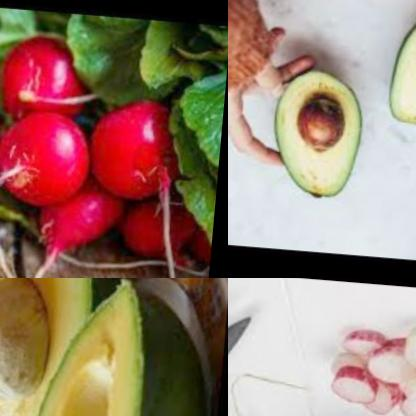avocado: (17, 278, 213, 416), (0, 278, 108, 416), (272, 64, 367, 199), (383, 3, 416, 122)
rediska: (90, 88, 199, 200), (0, 99, 101, 201), (0, 28, 99, 128), (324, 319, 416, 416), (124, 182, 220, 265), (44, 163, 126, 256)
